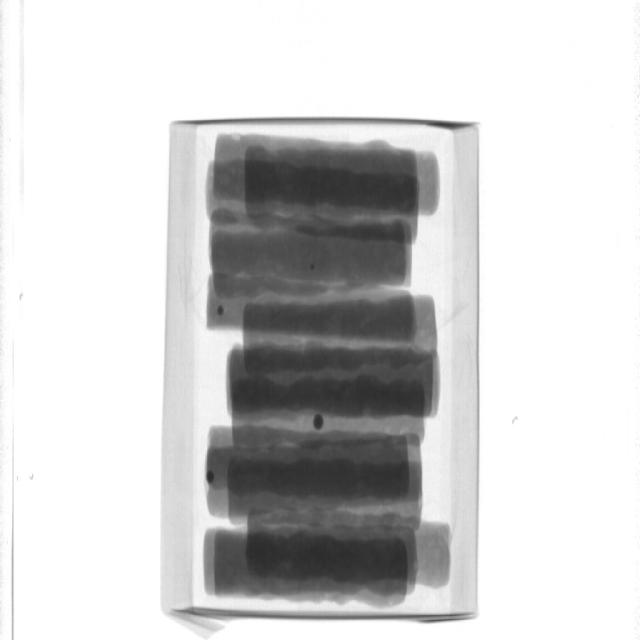ym: (314, 415, 326, 431), (208, 471, 217, 481), (309, 263, 317, 271), (218, 307, 225, 316)
